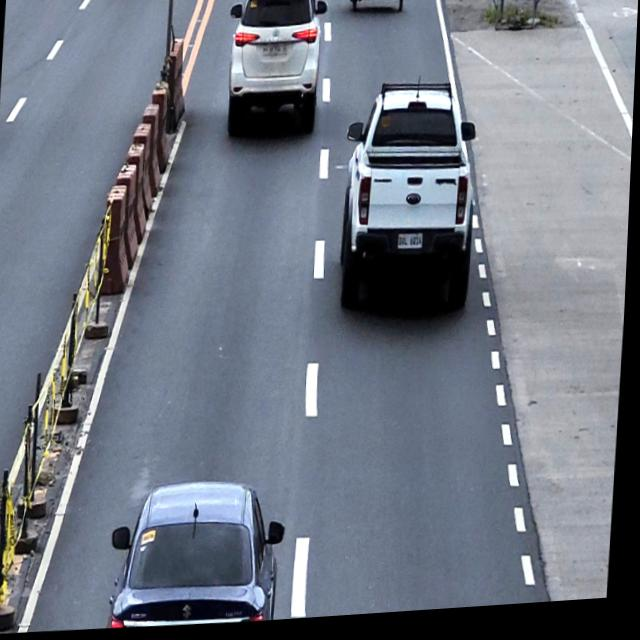Car: (338, 79, 483, 322), (111, 477, 292, 632), (223, 0, 329, 141)
License-Plate: (399, 236, 425, 256), (261, 43, 289, 61)
Tricycle: (342, 0, 406, 20)
